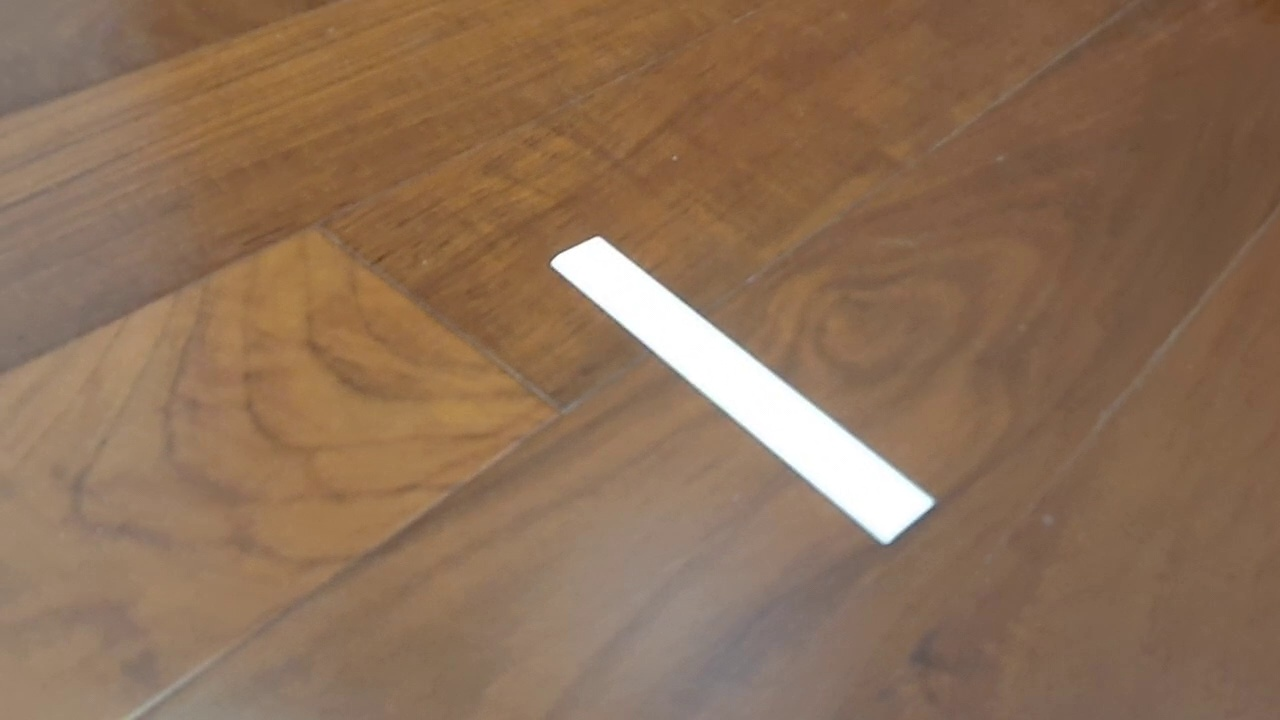ruler: (547, 233, 939, 549)
